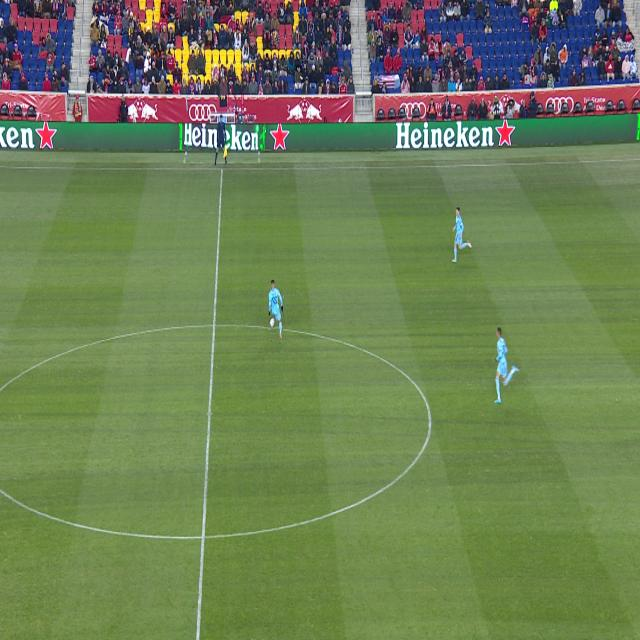football: (277, 318, 282, 329)
player: (494, 328, 519, 404), (452, 207, 471, 262), (269, 281, 283, 339)
